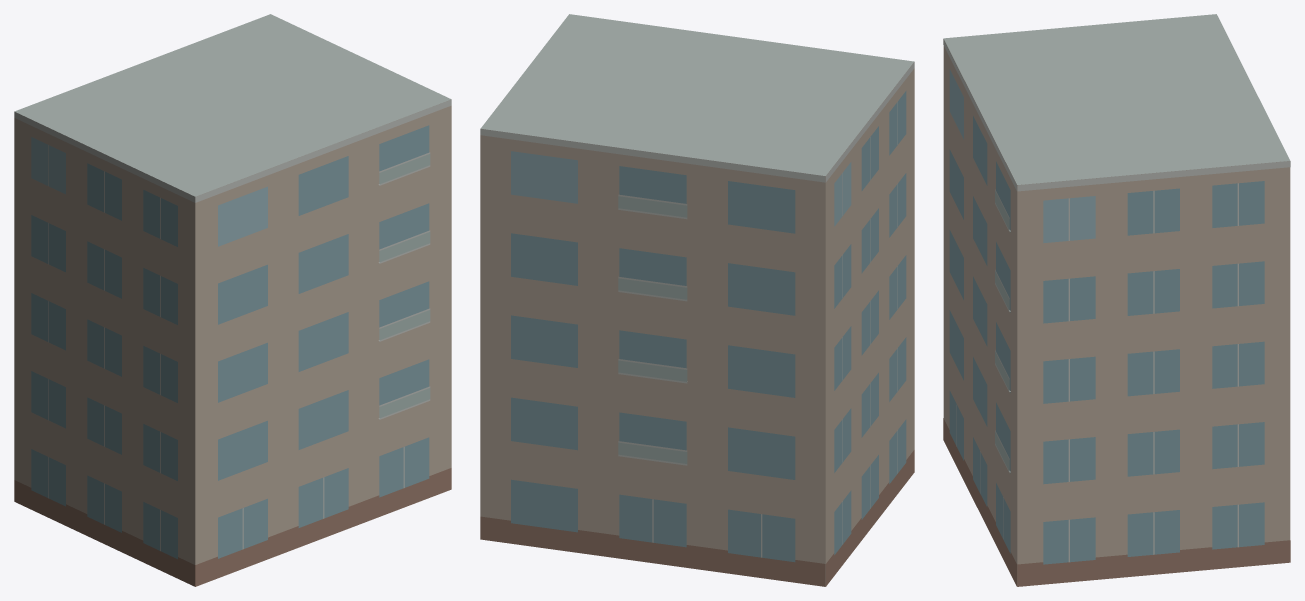
Rendered from survey-upis-32679132.glb.
The picture shows the model from 3 angles, left to right: view 1: azimuth 30°, elevation 25°; view 2: azimuth 150°, elevation 25°; view 3: azimuth 270°, elevation 25°; orthographic projection. The views are drawn at different scales.
Visible parts, largest first — view 1: survey-upis-32679132.tmp; view 2: survey-upis-32679132.tmp; view 3: survey-upis-32679132.tmp.
Boxes of the visible parts, box(x1,y1,x2,y2) form: survey-upis-32679132.tmp: box(14, 14, 451, 586); survey-upis-32679132.tmp: box(480, 14, 914, 586); survey-upis-32679132.tmp: box(943, 14, 1290, 586).
Bounding box in the file's own units: 14.08 × 15.4 × 12.07.
